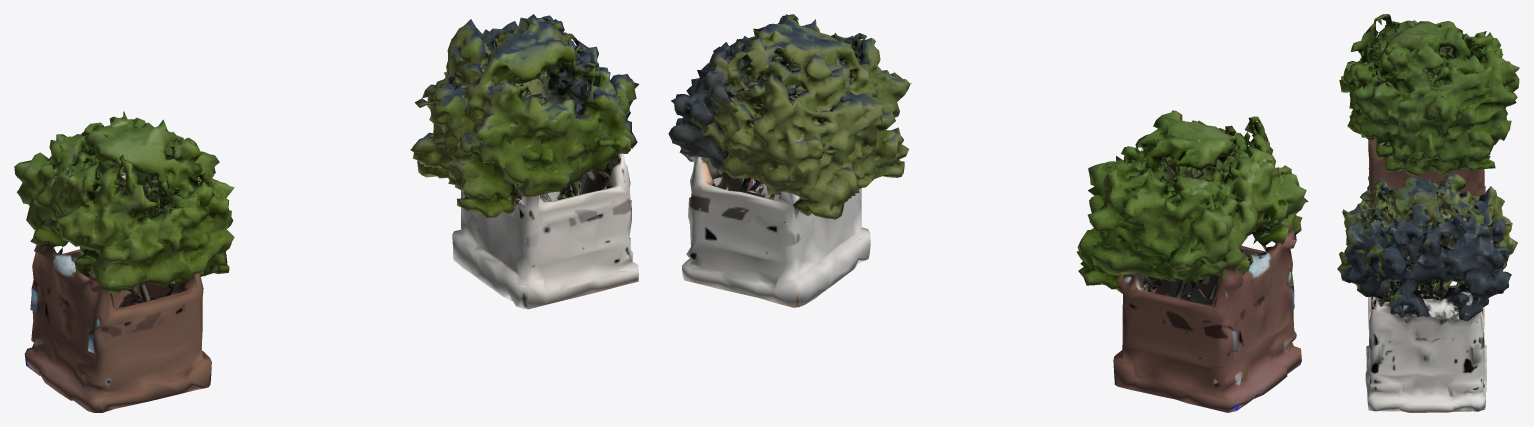
The model's file is traffic.glb.
3 renders of one model, left to right at view 1: azimuth 30°, elevation 25°; view 2: azimuth 150°, elevation 25°; view 3: azimuth 270°, elevation 25°, orthographic. The views are drawn at different scales.
Bounding box in the file's own units: 1.88 × 0.7602 × 0.6257.
1 material, 1 textured.
